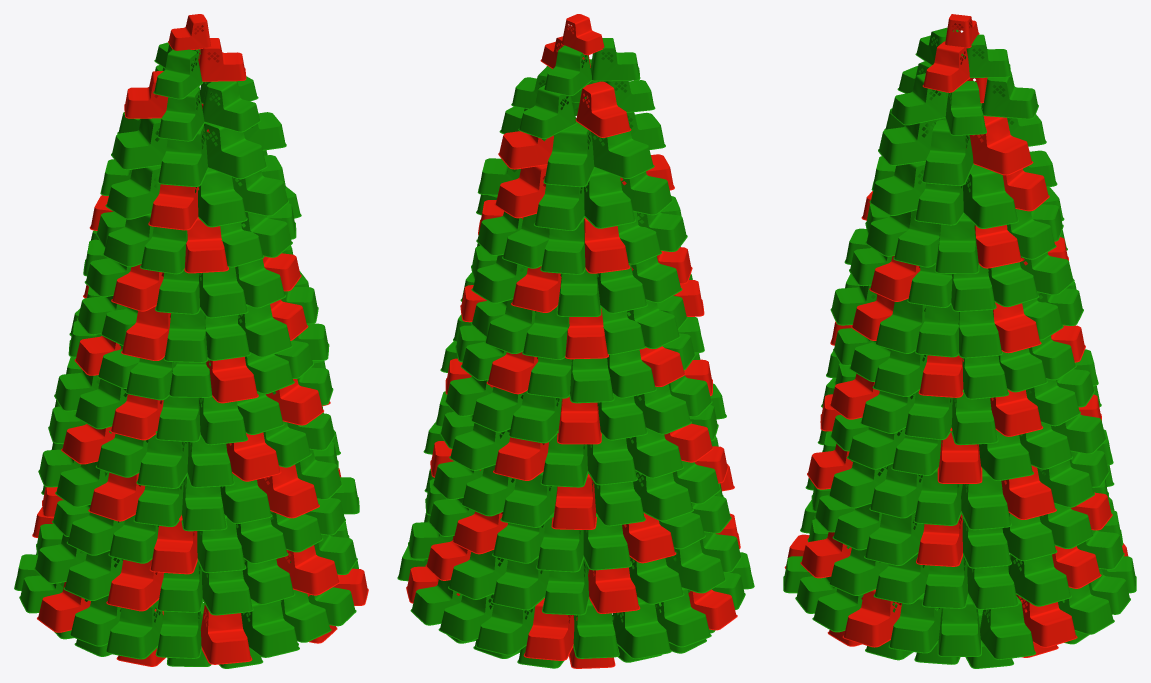
Rendered from XmasTree.gltf.
3 views of the same model, side by side, from view 1: azimuth 30°, elevation 25°; view 2: azimuth 150°, elevation 25°; view 3: azimuth 270°, elevation 25° (orthographic).
Parts seen in each view (by area): view 1: Cylinder.021; view 2: Cylinder.021; view 3: Cylinder.021.
Part boxes in pixels (x1=…): Cylinder.021: x1=14, y1=14, x2=368, y2=668; Cylinder.021: x1=397, y1=14, x2=754, y2=668; Cylinder.021: x1=783, y1=14, x2=1136, y2=668.
Size of the model in its own units: 3.77 by 6.95 by 3.79.
